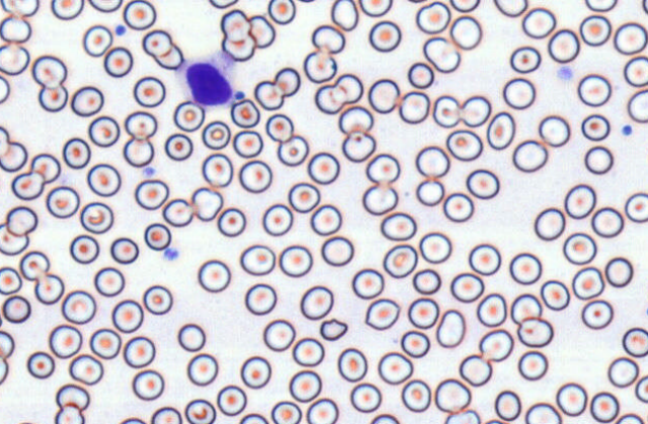MONO: (179, 56, 232, 107)
PLT: (163, 247, 180, 262), (557, 67, 572, 81), (621, 123, 634, 138), (142, 165, 156, 178), (114, 23, 126, 37), (234, 90, 245, 100)
RBC: (422, 36, 460, 73), (434, 378, 471, 413), (382, 243, 417, 278), (61, 289, 96, 324), (31, 54, 67, 88), (435, 308, 465, 348), (299, 285, 333, 320), (86, 163, 121, 197), (478, 328, 513, 362), (512, 139, 548, 172), (377, 351, 413, 384), (563, 183, 596, 219), (445, 129, 482, 161), (303, 49, 337, 83), (238, 159, 272, 193), (48, 324, 82, 358), (613, 21, 647, 55), (367, 78, 400, 113), (415, 1, 450, 34), (521, 6, 556, 39), (547, 28, 580, 63), (562, 232, 597, 265), (364, 298, 400, 330), (516, 316, 553, 347), (486, 111, 515, 150), (415, 145, 449, 178), (449, 15, 482, 49), (278, 244, 312, 277), (45, 185, 79, 218), (79, 201, 113, 234), (571, 266, 604, 300), (577, 73, 611, 106), (191, 186, 223, 221), (365, 152, 400, 184), (68, 353, 103, 385), (134, 178, 169, 210), (362, 184, 398, 215), (239, 244, 275, 275), (307, 151, 340, 184), (288, 369, 321, 402), (262, 318, 295, 351), (197, 259, 230, 292), (201, 153, 233, 187), (398, 90, 430, 124), (458, 354, 492, 386), (111, 299, 143, 333), (555, 382, 587, 416), (341, 131, 376, 162), (338, 104, 373, 135), (476, 292, 507, 327), (380, 211, 416, 241), (287, 181, 320, 213), (186, 353, 218, 386), (368, 20, 401, 52), (261, 203, 293, 236), (244, 282, 276, 315), (123, 335, 155, 368), (502, 77, 535, 109), (538, 114, 570, 147), (533, 207, 565, 240), (418, 231, 451, 263), (468, 243, 501, 275), (591, 206, 624, 238), (320, 235, 354, 266), (465, 168, 499, 199), (337, 347, 367, 382), (276, 134, 308, 166), (310, 203, 342, 235), (88, 115, 120, 147), (89, 327, 121, 359), (407, 297, 439, 329), (509, 252, 541, 284), (579, 14, 611, 46), (351, 268, 384, 299), (400, 379, 431, 412), (131, 369, 164, 400), (240, 355, 271, 388), (70, 85, 103, 116), (311, 24, 345, 54), (122, 0, 156, 30), (450, 272, 484, 302), (314, 83, 346, 114), (33, 272, 64, 304), (460, 95, 491, 127), (5, 205, 37, 236), (173, 100, 204, 132), (133, 76, 165, 107), (93, 266, 125, 297), (607, 356, 639, 387), (510, 293, 542, 324), (216, 384, 247, 416), (124, 110, 157, 140), (82, 24, 112, 57), (123, 136, 154, 167), (19, 250, 50, 281), (220, 9, 250, 41), (0, 43, 30, 75), (442, 192, 474, 222), (349, 382, 381, 412), (581, 299, 613, 329), (11, 171, 44, 200), (247, 14, 275, 48), (55, 383, 89, 411), (103, 46, 133, 77), (162, 197, 193, 227), (30, 152, 60, 183), (517, 350, 548, 380), (589, 391, 619, 422), (142, 284, 172, 315), (540, 279, 570, 310), (0, 223, 29, 255), (292, 337, 324, 366), (62, 137, 91, 169), (432, 94, 460, 127), (333, 73, 363, 103), (254, 80, 284, 110), (230, 98, 260, 128), (69, 234, 99, 264), (232, 129, 263, 158), (604, 256, 633, 287), (509, 45, 541, 73), (222, 34, 255, 61), (217, 206, 246, 236), (330, 0, 358, 31), (0, 15, 31, 43), (0, 140, 27, 172), (494, 389, 521, 421), (265, 113, 294, 142), (201, 120, 230, 149), (164, 132, 193, 161), (584, 145, 613, 174), (142, 29, 172, 57), (38, 84, 68, 112), (400, 329, 430, 357), (1, 295, 31, 323), (273, 66, 300, 97), (306, 397, 338, 423), (415, 178, 444, 206), (26, 350, 54, 379), (177, 322, 205, 351), (110, 236, 139, 264), (581, 113, 610, 141), (184, 398, 216, 423), (623, 55, 648, 87), (143, 222, 171, 250), (153, 43, 183, 69), (622, 327, 648, 357), (524, 402, 561, 423), (407, 61, 434, 89), (412, 268, 441, 294), (624, 191, 647, 222), (270, 400, 301, 423), (627, 89, 647, 123), (50, 0, 84, 20), (267, 0, 295, 24), (0, 0, 39, 17), (0, 266, 22, 294), (54, 404, 84, 424), (358, 0, 392, 17), (493, 0, 527, 17), (150, 406, 182, 423), (444, 409, 480, 424), (87, 0, 123, 12), (584, 0, 617, 12), (0, 330, 14, 358), (635, 374, 648, 403), (449, 0, 480, 12), (614, 412, 644, 423), (238, 412, 268, 423), (0, 125, 10, 156), (0, 74, 10, 104), (369, 413, 399, 423), (207, 0, 238, 9), (117, 416, 146, 424), (0, 356, 8, 384), (482, 418, 510, 424), (0, 170, 4, 197), (642, 0, 648, 14), (14, 421, 40, 424), (295, 0, 319, 3), (405, 0, 428, 3)
Schistocyte: (321, 318, 349, 343)
